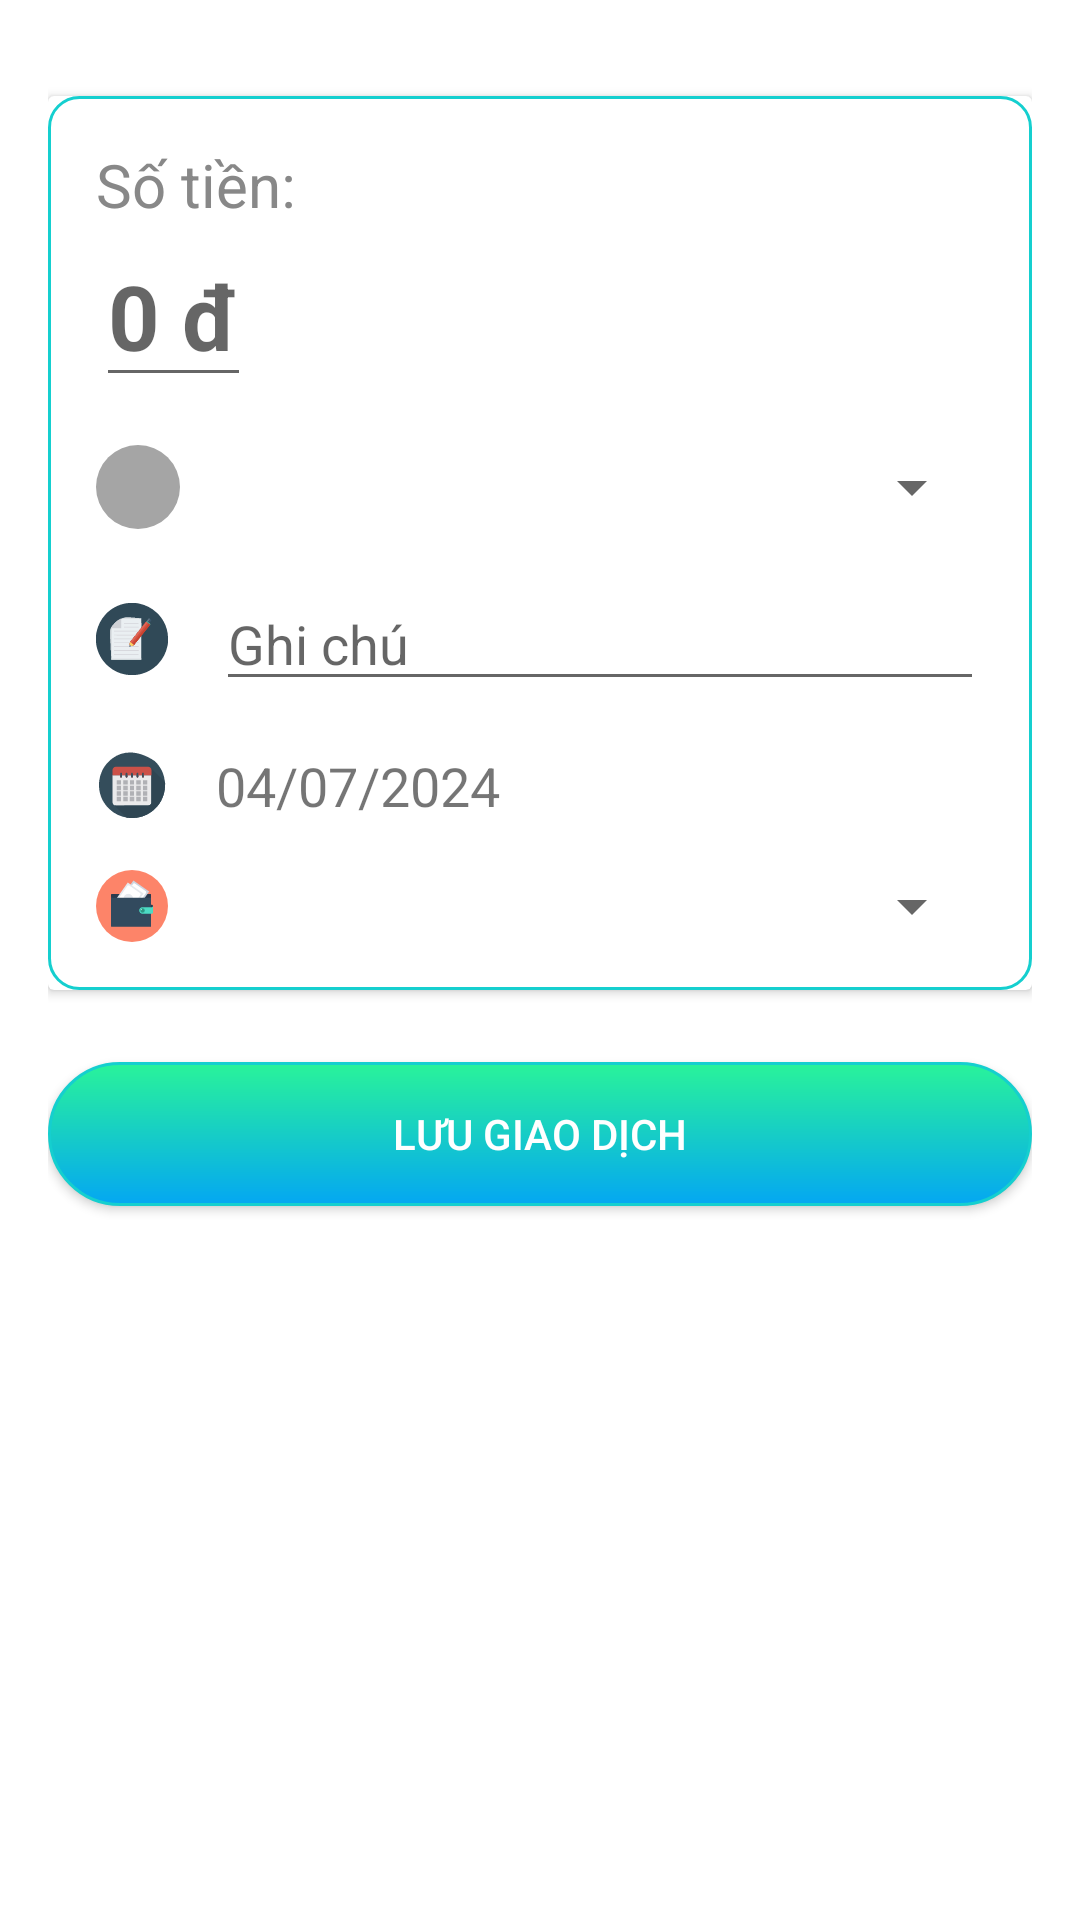

Where icons sit on this 1080w x 1920h app screen, as box(x1, y1, x2, y2):
calendar: box(99, 752, 166, 818)
note: box(96, 603, 168, 675)
wallet: box(96, 870, 168, 942)
